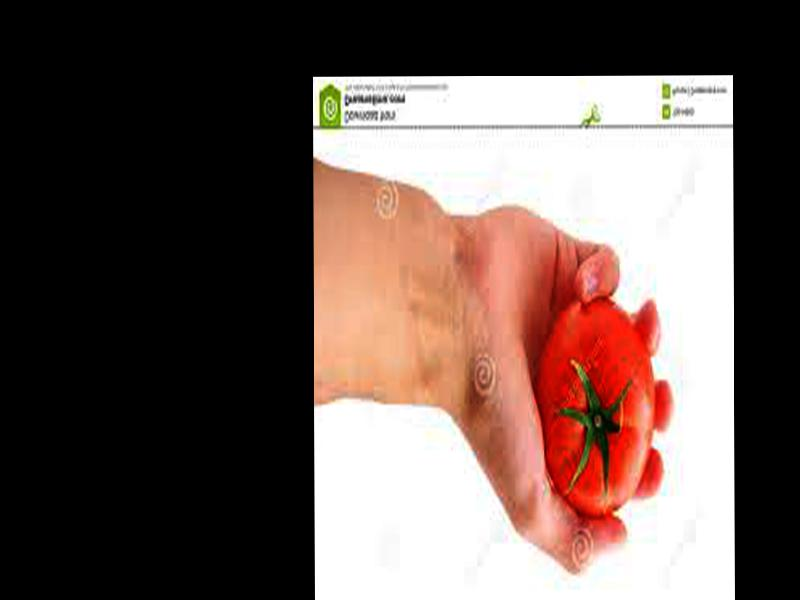Tomato: (538, 295, 655, 513)
